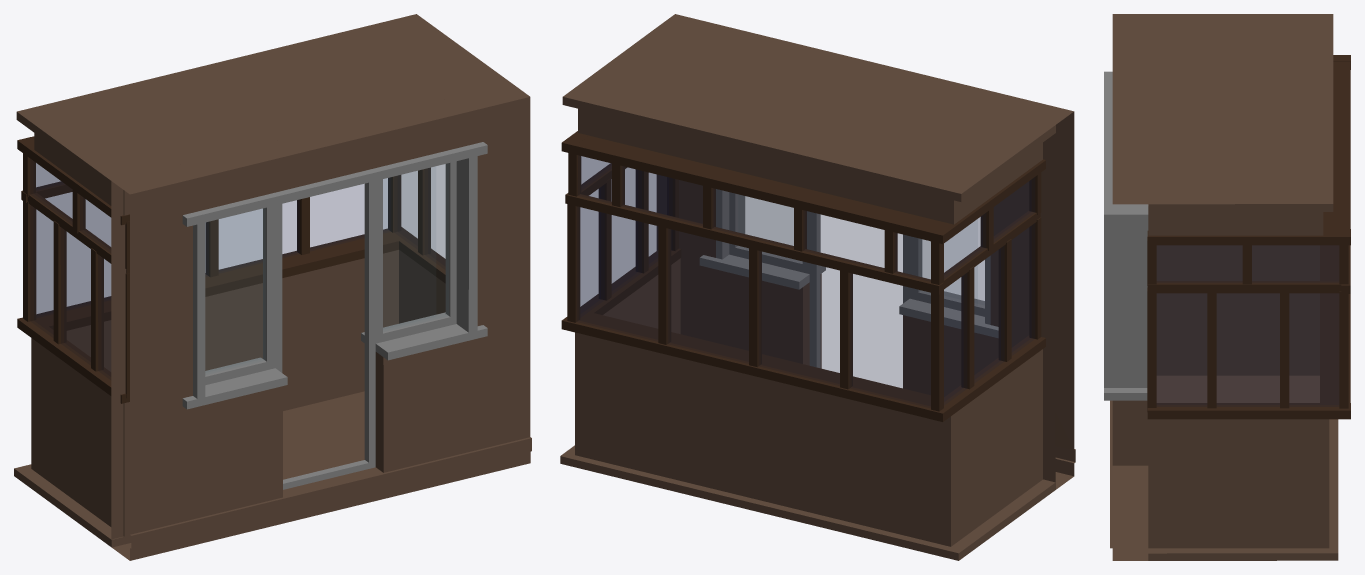
3 renders of one model, left to right at view 1: azimuth 30°, elevation 25°; view 2: azimuth 150°, elevation 25°; view 3: azimuth 270°, elevation 25°, orthographic. The views are drawn at different scales.
Visible parts, largest first — view 1: Hub_3_balcony_029; view 2: Hub_3_balcony_029; view 3: Hub_3_balcony_029.
Boxes of the visible parts, <box> form: Hub_3_balcony_029: <box>14,14,531,560</box>; Hub_3_balcony_029: <box>560,14,1075,560</box>; Hub_3_balcony_029: <box>1104,14,1350,560</box>.
Size of the model in its own units: 320 by 280 by 176.
